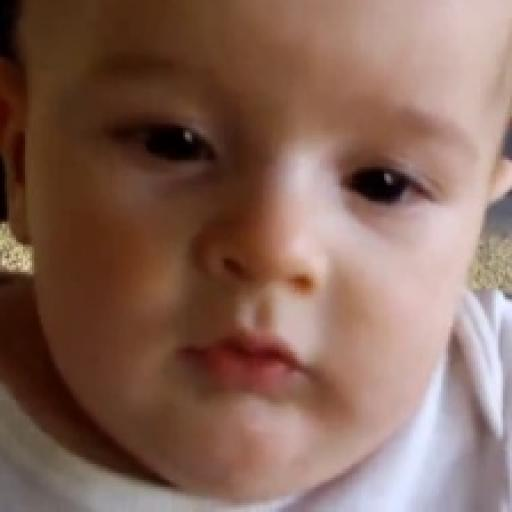Autism: (37, 12, 512, 466)
